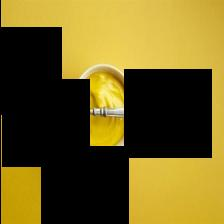yellow: (0, 1, 224, 224), (76, 73, 128, 108), (76, 116, 127, 151), (53, 100, 70, 123)
